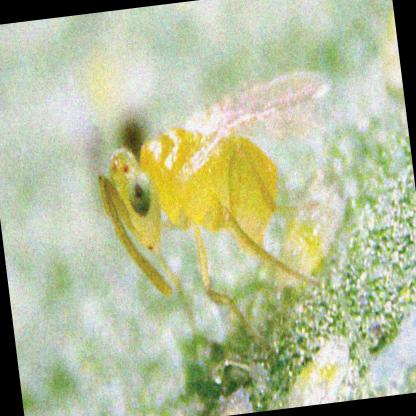whitefly: (100, 68, 330, 298)
